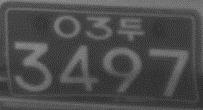0: (53, 14, 80, 39)
3: (12, 41, 52, 92), (85, 15, 113, 40)
4: (59, 43, 98, 92)
7: (147, 46, 190, 97)
9: (101, 45, 143, 94)
두: (116, 16, 145, 42)
